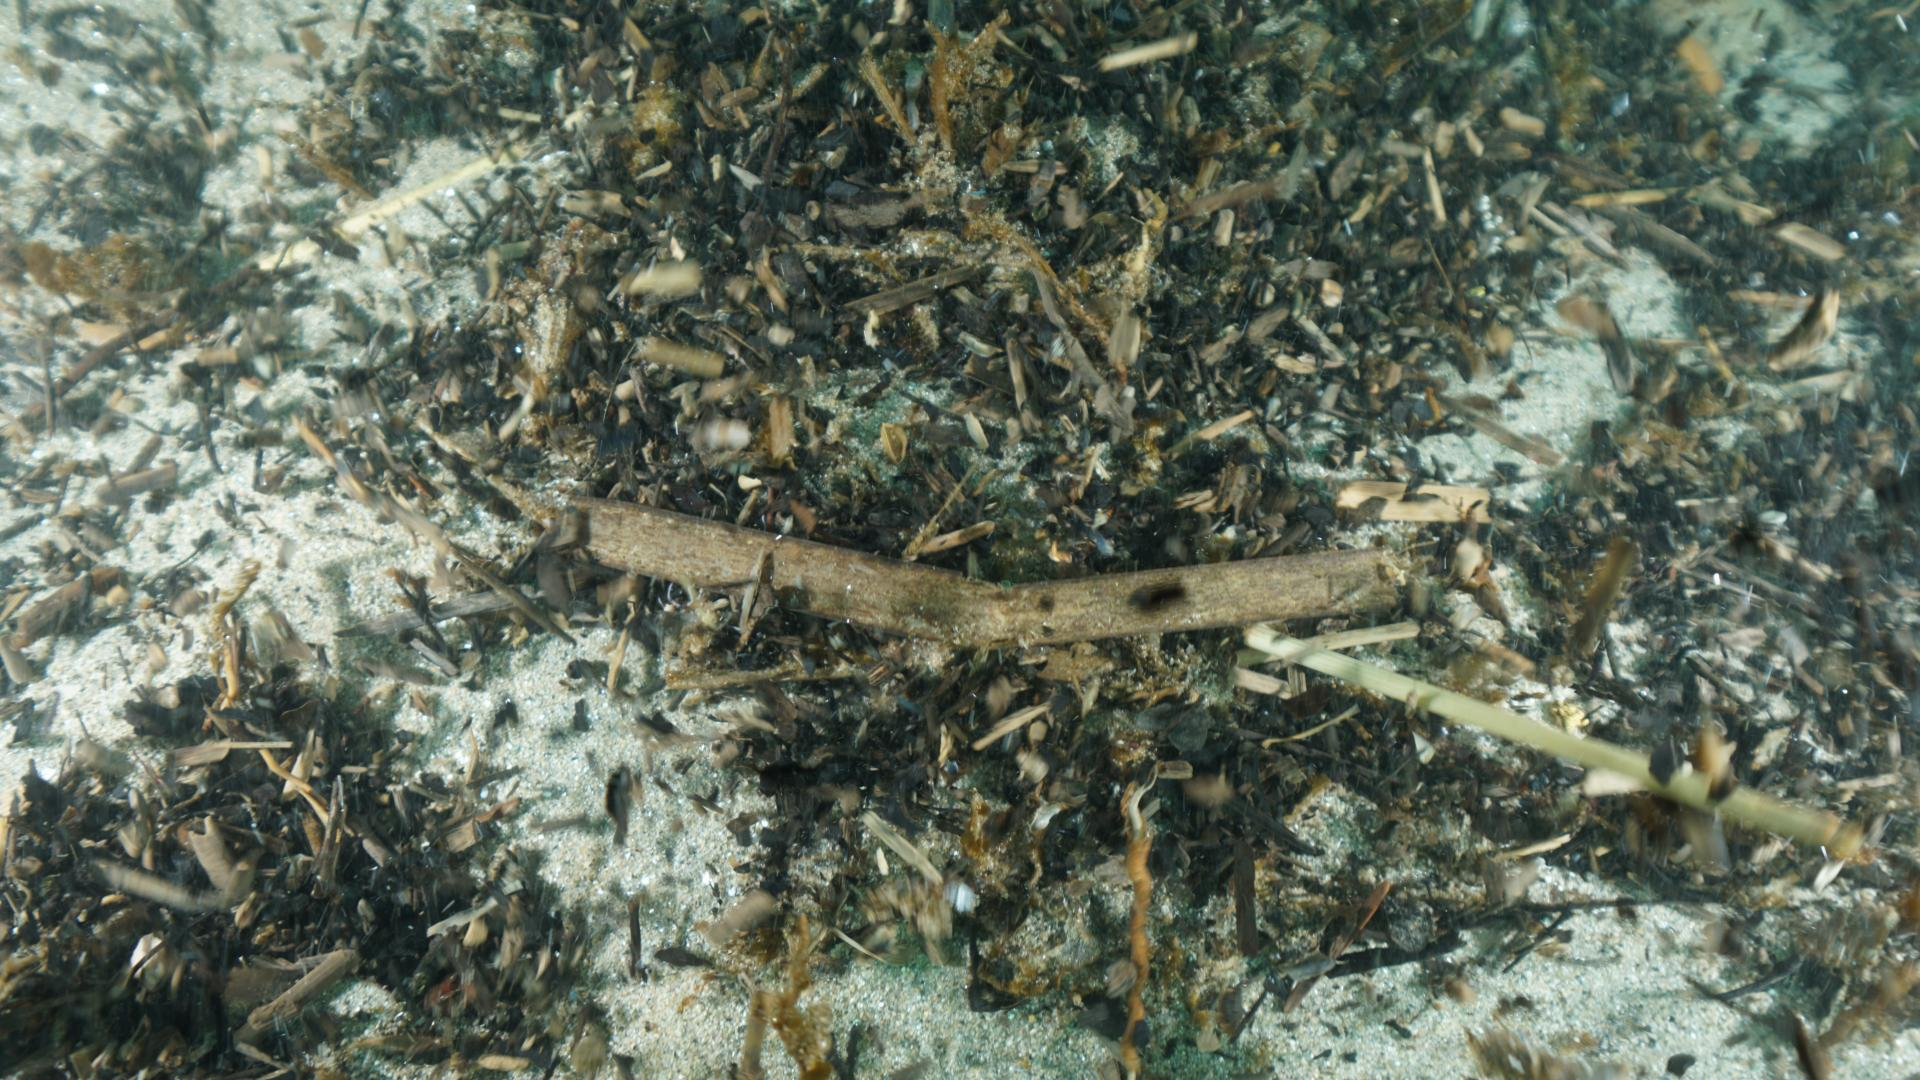wood: (583, 497, 1399, 647)
